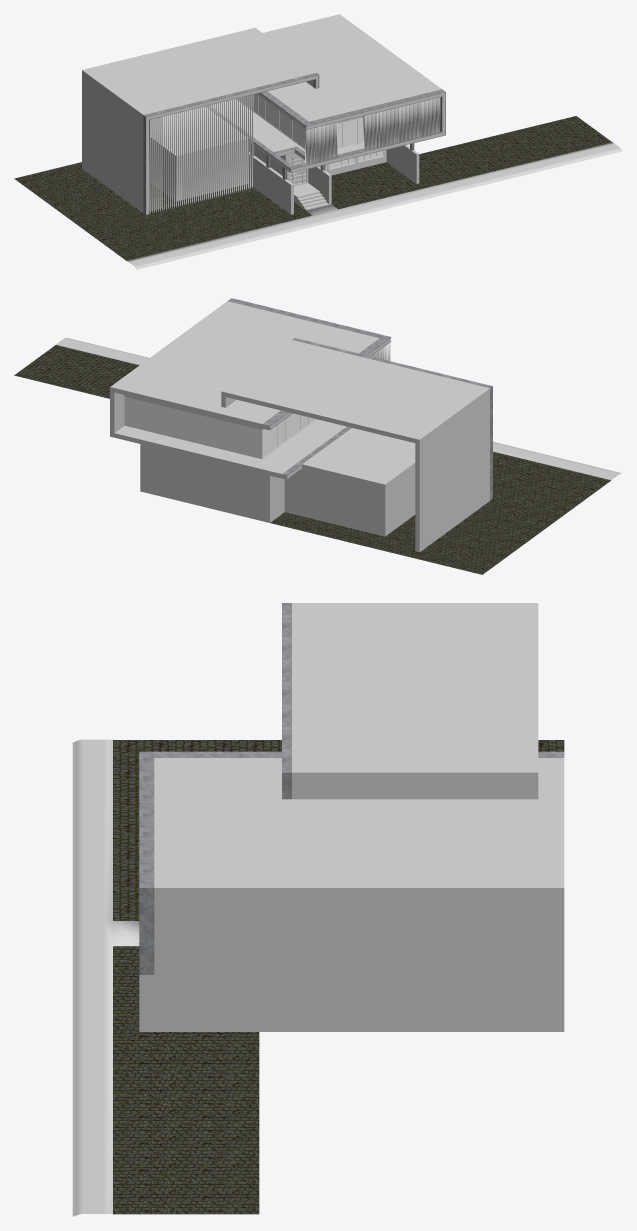
The model's file is house_construction.glb.
3 renders of one model, top to bottom at view 1: azimuth 30°, elevation 25°; view 2: azimuth 150°, elevation 25°; view 3: azimuth 270°, elevation 25°, orthographic. The views are drawn at different scales.
Visible parts, largest first — view 1: outside_bricks, mainStructure_f2_left, mainStructure_f2_right, wood_Pannels, ourside_road-stairs, mainStructure_1f_back, brick_walls, window_f2, mainStructure_f1_wallEntranceRight; view 2: mainStructure_f2_left, mainStructure_f2_right, outside_bricks, mainStructure_1f_back, mainStructure_f1, window_f2, ourside_road-stairs, mainStructure_f2_right2; view 3: mainStructure_f2_right, mainStructure_f2_left, outside_bricks, ourside_road-stairs, mainStructure_f1, brick_walls.
Part boxes in pixels (box(x1,y1,x2,y2)): outside_bricks: box(14, 116, 611, 260); mainStructure_f2_left: box(82, 27, 319, 215); mainStructure_f2_right: box(205, 14, 445, 172); wood_Pannels: box(149, 94, 440, 213); ourside_road-stairs: box(127, 142, 622, 269); mainStructure_1f_back: box(151, 106, 247, 201); brick_walls: box(249, 145, 419, 214); window_f2: box(237, 94, 363, 149); mainStructure_f1_wallEntranceRight: box(329, 150, 386, 175); mainStructure_f2_left: box(221, 338, 492, 552); mainStructure_f2_right: box(110, 298, 391, 479); outside_bricks: box(14, 345, 610, 574); mainStructure_1f_back: box(284, 428, 415, 536); mainStructure_f1: box(140, 444, 284, 522); window_f2: box(124, 396, 316, 459); ourside_road-stairs: box(56, 338, 621, 480); mainStructure_f2_right2: box(124, 395, 316, 459); mainStructure_f2_right: box(139, 751, 564, 974); mainStructure_f2_left: box(282, 603, 538, 799); outside_bricks: box(113, 740, 564, 1214); ourside_road-stairs: box(72, 739, 139, 1216); mainStructure_f1: box(259, 975, 564, 1031); brick_walls: box(139, 975, 259, 1031).
Bounding box in the file's own units: 37.53 × 7.35 × 16.44.
9 materials, 3 textured.
